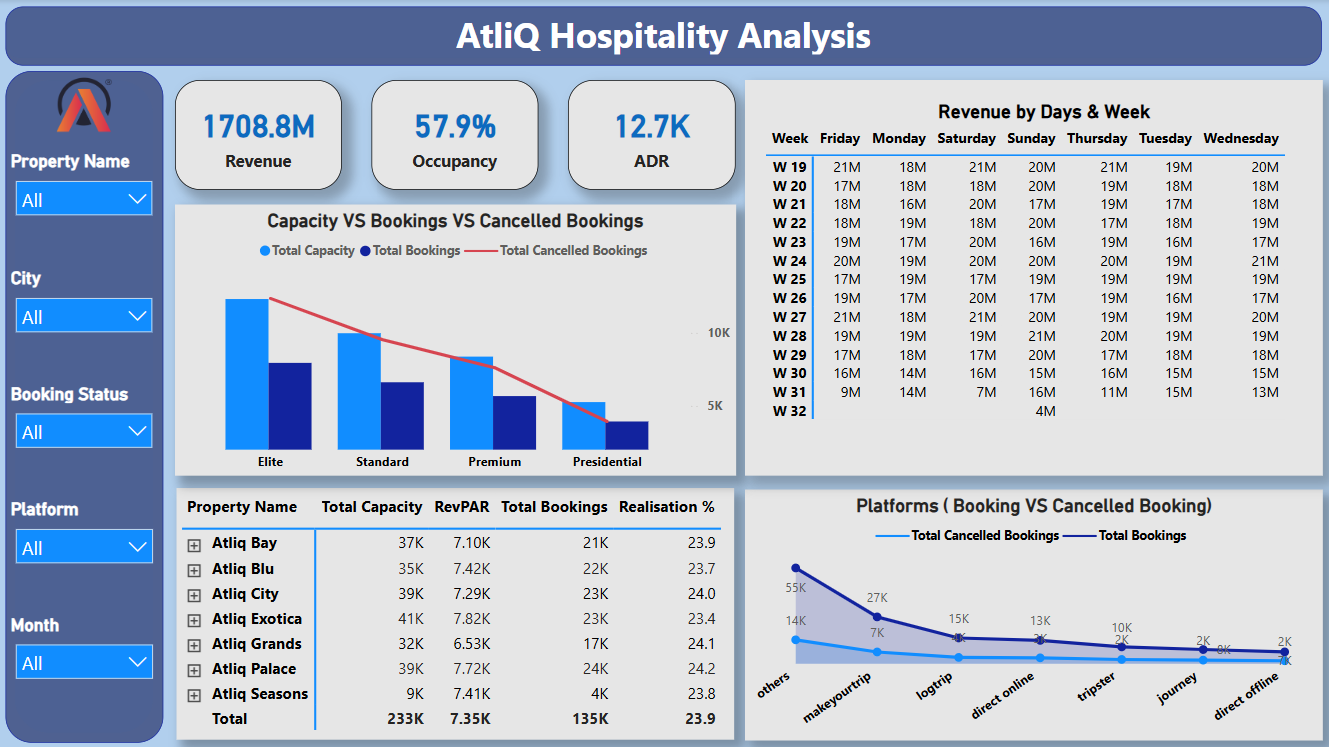

What the dashboard file says about the page in this screenshot:
{"tool":"powerbi","page":{"name":"Monthly Analysis View","canvas":[1280,720],"ordinal":1},"visuals":[{"type":"shape","box":[7.8,7.8,1262.2,56.7],"z":0},{"type":"shape","box":[7.2,69,151,644.3],"z":1000},{"type":"card","fields":{"Values":["Measure.Revenue"]},"box":[169.7,77,160,105],"z":2000},{"type":"card","fields":{"Values":["Measure.Occupancy %"]},"box":[358.1,77,160,105],"z":3000},{"type":"slicer","title":"Property Name","fields":{"Values":["dim_hotels.property_name"]},"box":[7.4,144.7,150.6,81.2],"z":4000},{"type":"slicer","title":"City","fields":{"Values":["dim_hotels.city"]},"box":[7.4,257.2,150.6,79.8],"z":5000},{"type":"slicer","title":"Booking Status","fields":{"Values":["fact_bookings.booking_status"]},"box":[7.4,368.2,150.6,79.8],"z":6000},{"type":"slicer","title":"Platform","fields":{"Values":["fact_bookings.booking_platform"]},"box":[7.2,479.3,151,79.1],"z":7000},{"type":"slicer","title":"Month","fields":{"Values":["dim_date.date.Variation.Date Hierarchy.Month"]},"box":[7.2,589.6,151,79.1],"z":8000},{"type":"pivotTable","fields":{"Rows":["dim_hotels.property_name","dim_hotels.city"],"Values":["Measure.Total Capacity","Measure.RevPAR","Measure.Total Bookings","Measure.Realisation %"]},"box":[171.1,468.9,535,241.6],"z":9000},{"type":"image","box":[41.4,69.4,82.7,63.5],"z":10000},{"type":"card","fields":{"Values":["Measure.ADR"]},"box":[546.6,77.2,160.7,105.5],"z":11000},{"type":"lineChart","title":"Platforms ( Booking VS Cancelled Booking) ","fields":{"Y2":["Measure.Total Cancelled Bookings","Measure.Total Bookings"],"Category":["fact_bookings.booking_platform"]},"box":[716.5,469.9,553.7,240.4],"z":12000},{"type":"lineClusteredColumnComboChart","title":"Capacity VS Bookings VS Cancelled Bookings","fields":{"Category":["dim_rooms.room_class"],"Y":["Measure.Total Capacity","Measure.Total Bookings"],"Y2":["Measure.Total Cancelled Bookings"]},"box":[169.7,197,537.9,260.3],"z":13000},{"type":"pivotTable","title":"Revenue by Days & Week","fields":{"Rows":["dim_date.Week"],"Columns":["dim_date.Day Name"],"Values":["Measure.Revenue"]},"box":[716.2,77.7,553.7,379.7],"z":14000}]}

Visuals, with their boxes in screenshot pixels (x1, y1, x2, y2), scaled from the page's 1280x720 canvas onto the 1329x747 screenshot:
shape: detection(8, 8, 1319, 67)
shape: detection(7, 72, 164, 740)
card - Measure.Revenue: detection(176, 80, 342, 189)
card - Measure.Occupancy %: detection(372, 80, 538, 189)
"Property Name" slicer: detection(8, 150, 164, 234)
"City" slicer: detection(8, 267, 164, 350)
"Booking Status" slicer: detection(8, 382, 164, 465)
"Platform" slicer: detection(7, 497, 164, 579)
"Month" slicer: detection(7, 612, 164, 694)
pivotTable - dim_hotels.property_name x dim_hotels.city: detection(178, 486, 733, 737)
image: detection(43, 72, 129, 138)
card - Measure.ADR: detection(568, 80, 734, 190)
"Platforms ( Booking VS Cancelled Booking) " lineChart: detection(744, 488, 1319, 737)
"Capacity VS Bookings VS Cancelled Bookings" lineClusteredColumnComboChart: detection(176, 204, 735, 474)
"Revenue by Days & Week" pivotTable: detection(744, 81, 1319, 475)
